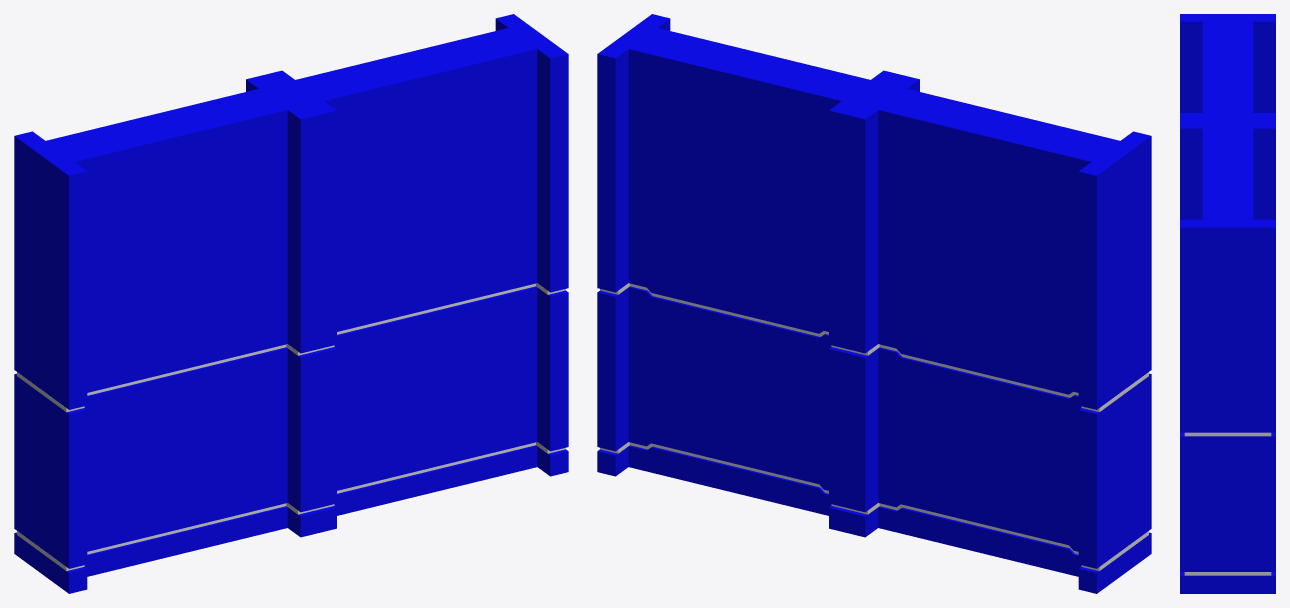
Rendered from WallsV2_2x1Merged.fbx.
3 views of the same model, side by side, from view 1: azimuth 30°, elevation 25°; view 2: azimuth 150°, elevation 25°; view 3: azimuth 270°, elevation 25° (orthographic). The views are drawn at different scales.
Visible parts, largest first — view 1: WallV2_2x1_Combined; view 2: WallV2_2x1_Combined; view 3: WallV2_2x1_Combined.
Part boxes in pixels (<box>): WallV2_2x1_Combined: <box>14,14,568,593</box>; WallV2_2x1_Combined: <box>597,14,1151,593</box>; WallV2_2x1_Combined: <box>1180,14,1275,593</box>.
Size of the model in its own units: 1000 by 800 by 190.
